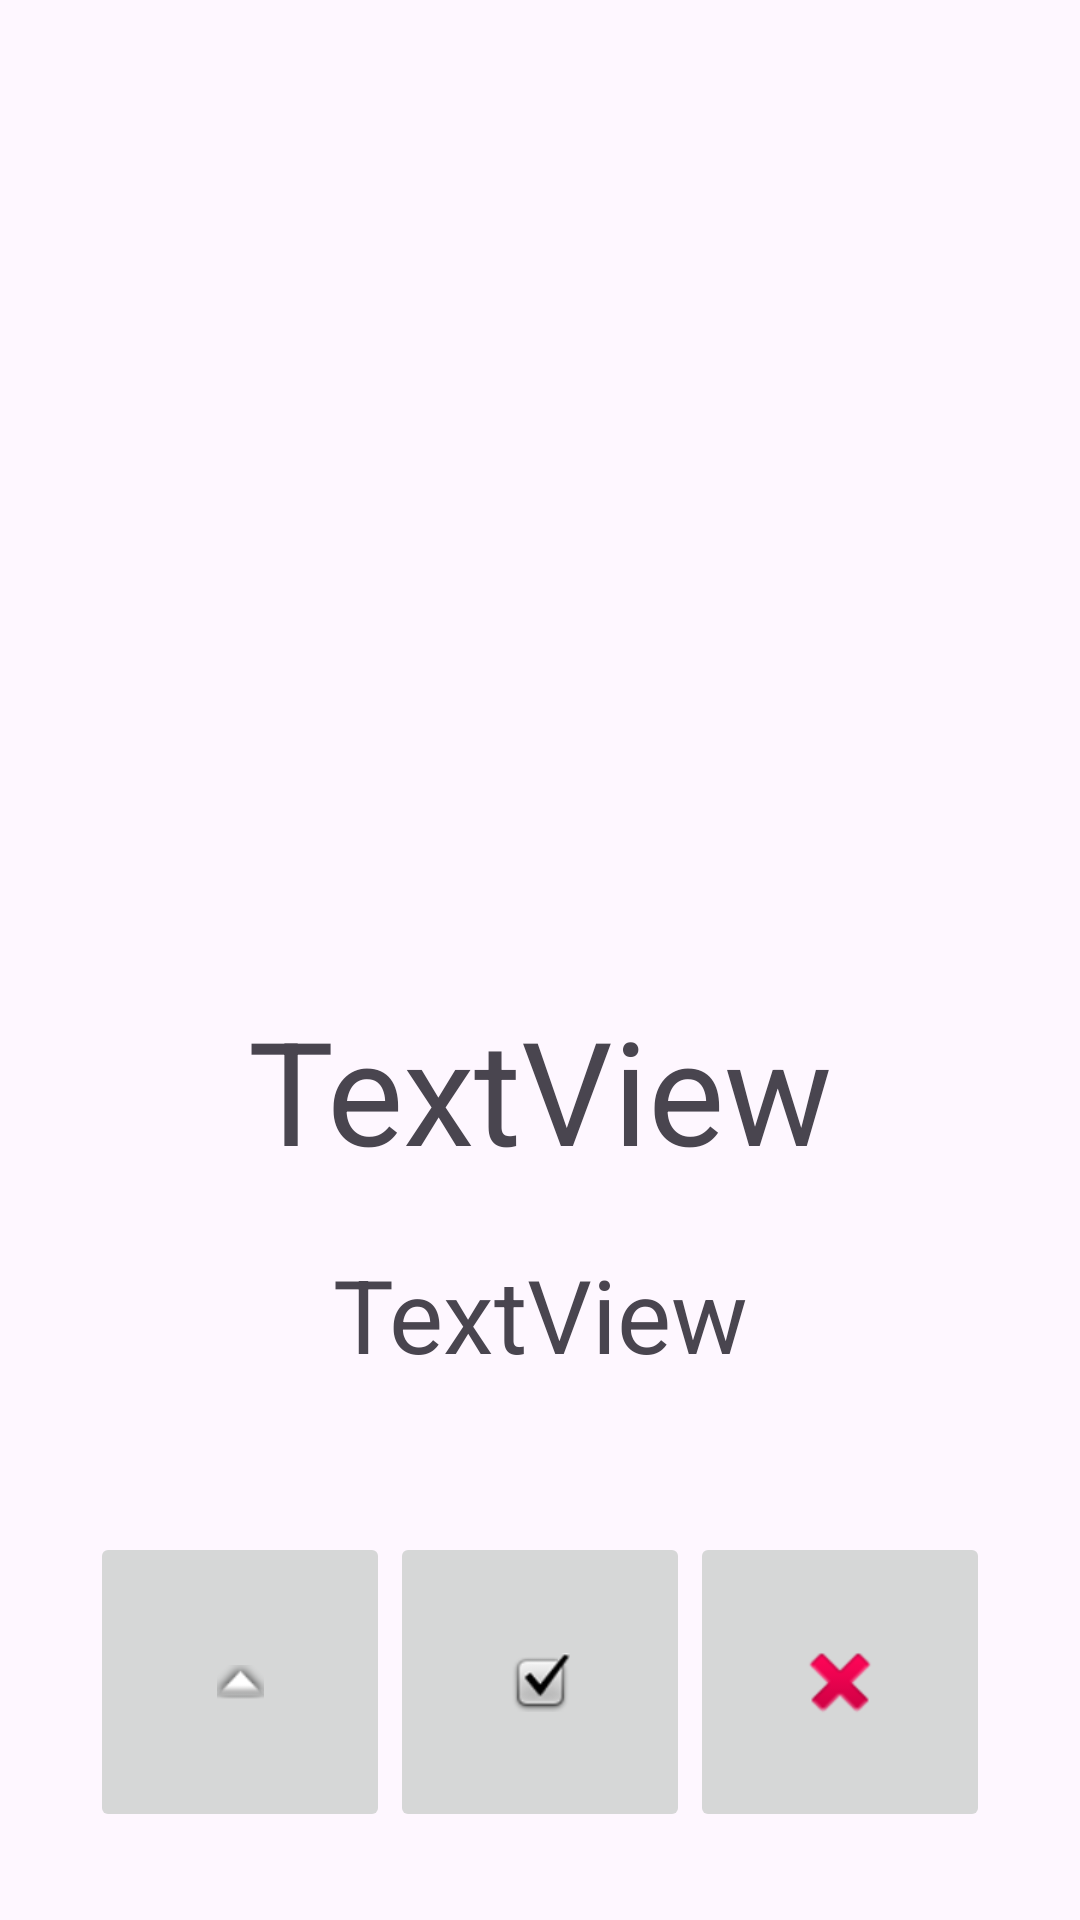

Named icons in this screenshot (1080×1920) and their centers, (x=x, y=y):
arrow up float: (x=240, y=1682)
delete: (x=840, y=1682)
